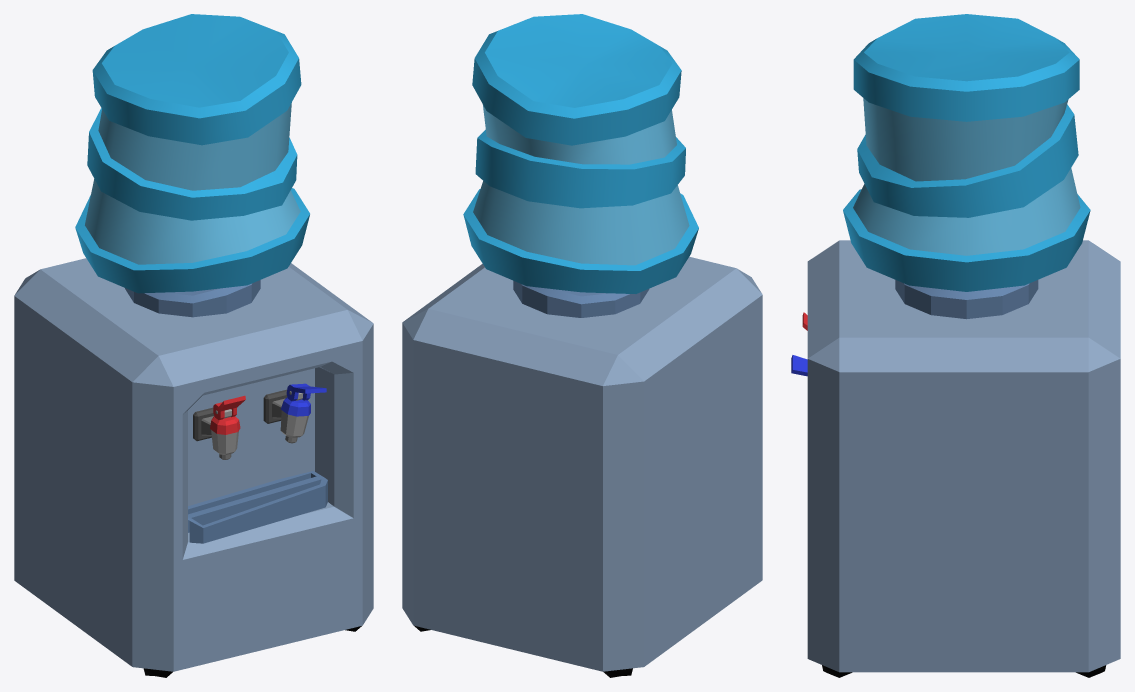
Rendered from Water Dispenser 02.fbx.
The picture shows the model from 3 angles, left to right: view 1: azimuth 30°, elevation 25°; view 2: azimuth 150°, elevation 25°; view 3: azimuth 270°, elevation 25°; orthographic projection. The views are drawn at different scales.
Parts seen in each view (by area): view 1: Water_Dispenser_02; view 2: Water_Dispenser_02; view 3: Water_Dispenser_02.
Part boxes in pixels (<box>): Water_Dispenser_02: <box>14,14,373,677</box>; Water_Dispenser_02: <box>402,14,762,677</box>; Water_Dispenser_02: <box>791,14,1120,677</box>.
Bounding box in the file's own units: 75.13 × 166 × 84.21.
